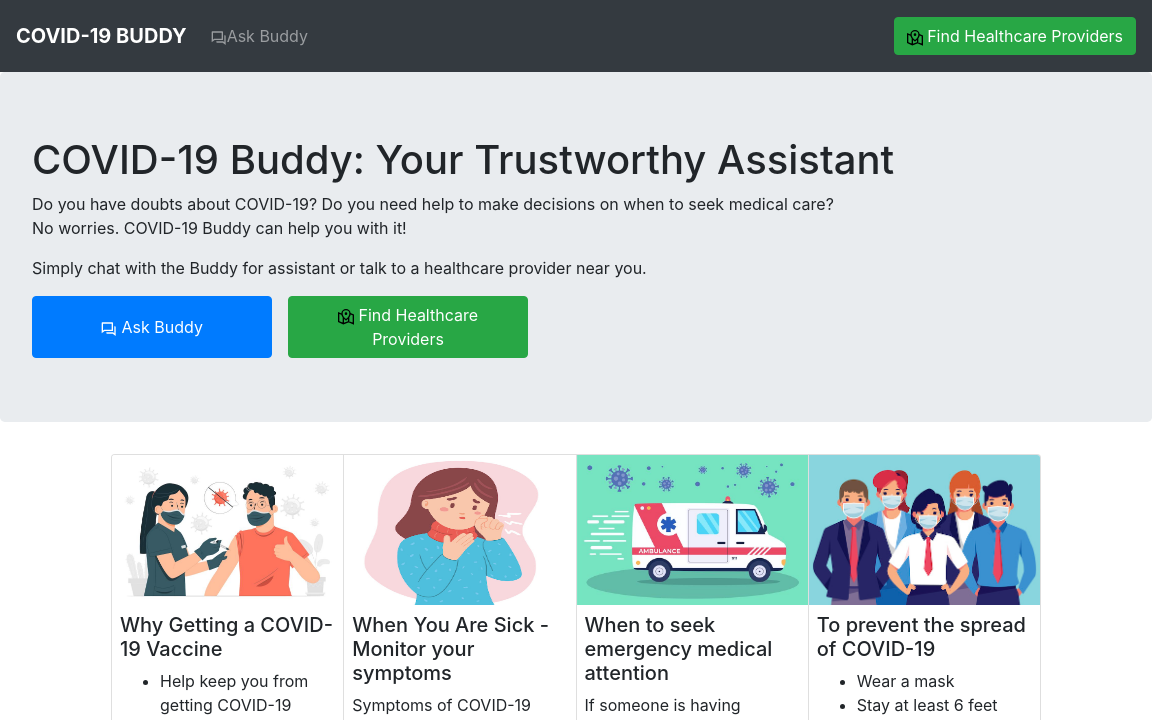
Test: tApp › click "Ask Buddy" in navbar should navigate to the Buddy view
Click the link with test id "nav-item-askbuddy". click: (259, 36)
box: [211,26,308,46]
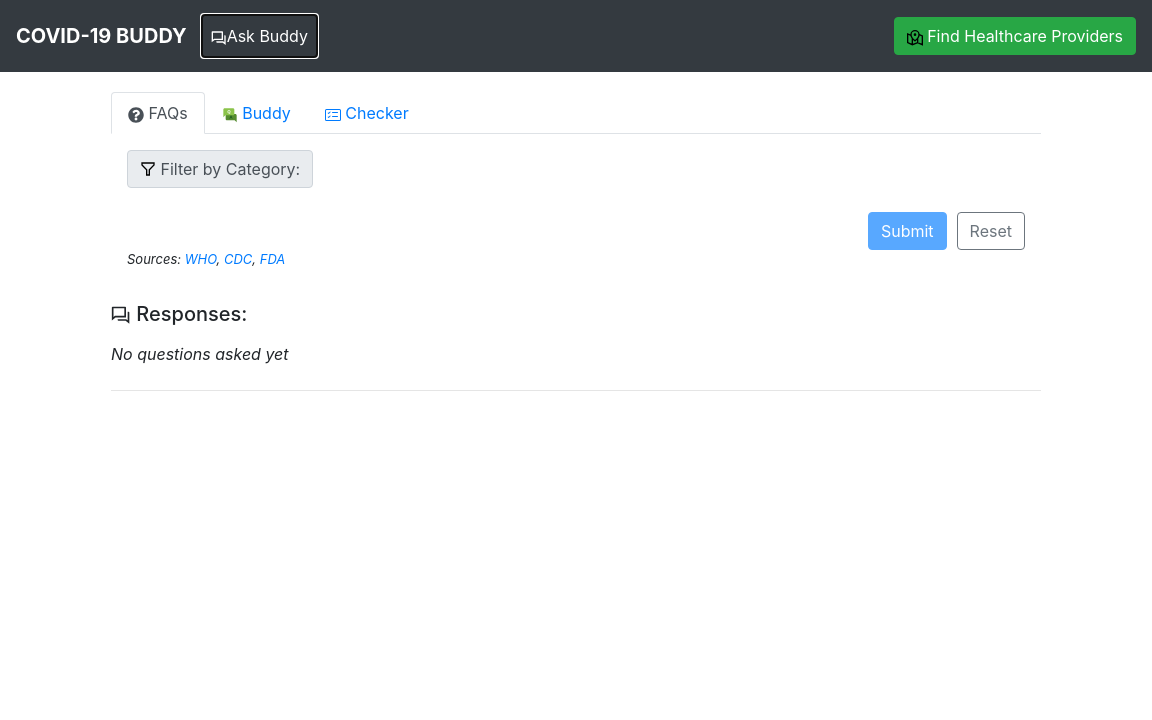
Result: the element with test id "qna-container" is shown at [96,92,1056,374]
